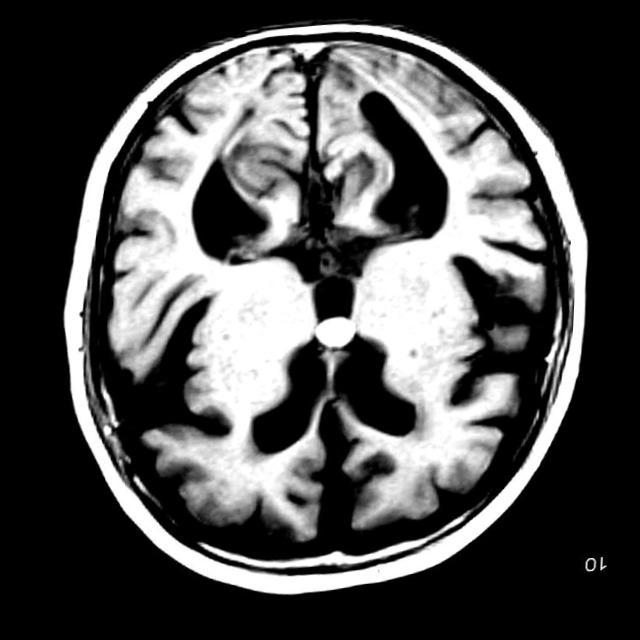Tumor: (317, 323, 360, 353)
